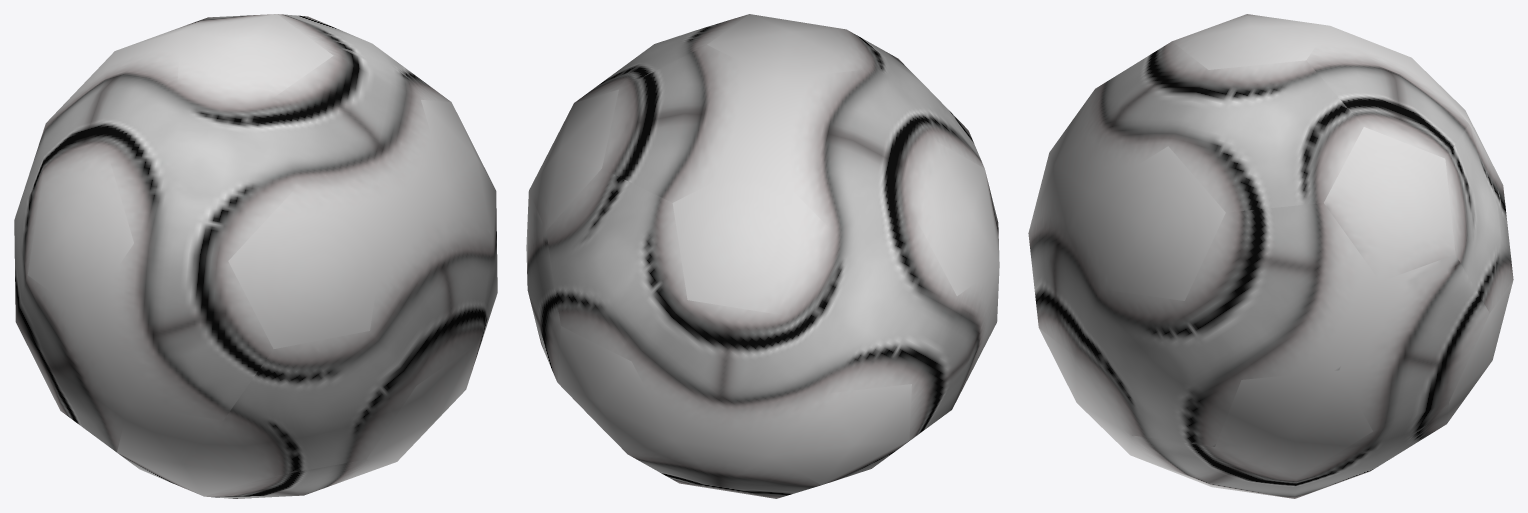
Rendered from st_ball_010.fbx.
The picture shows the model from 3 angles, left to right: view 1: azimuth 30°, elevation 25°; view 2: azimuth 150°, elevation 25°; view 3: azimuth 270°, elevation 25°; orthographic projection. The views are drawn at different scales.
Parts seen in each view (by area): view 1: st_Ball_010; view 2: st_Ball_010; view 3: st_Ball_010.
Boxes of the visible parts, <box> form: st_Ball_010: <box>14,14,497,498</box>; st_Ball_010: <box>526,14,999,498</box>; st_Ball_010: <box>1028,14,1513,498</box>.
Bounding box in the file's own units: 21.73 × 22.03 × 21.9.
